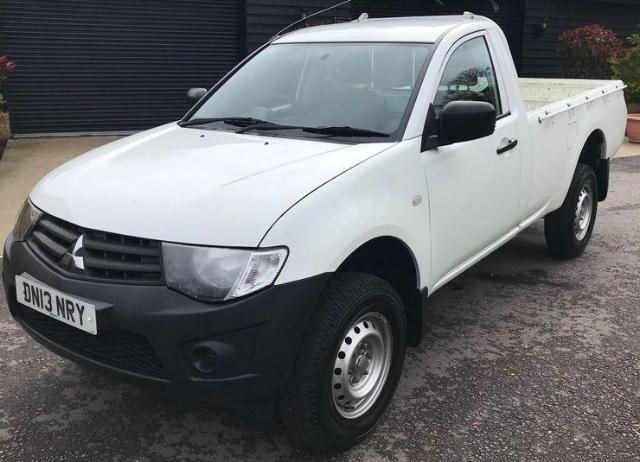pickup-truck: (0, 10, 629, 452)
